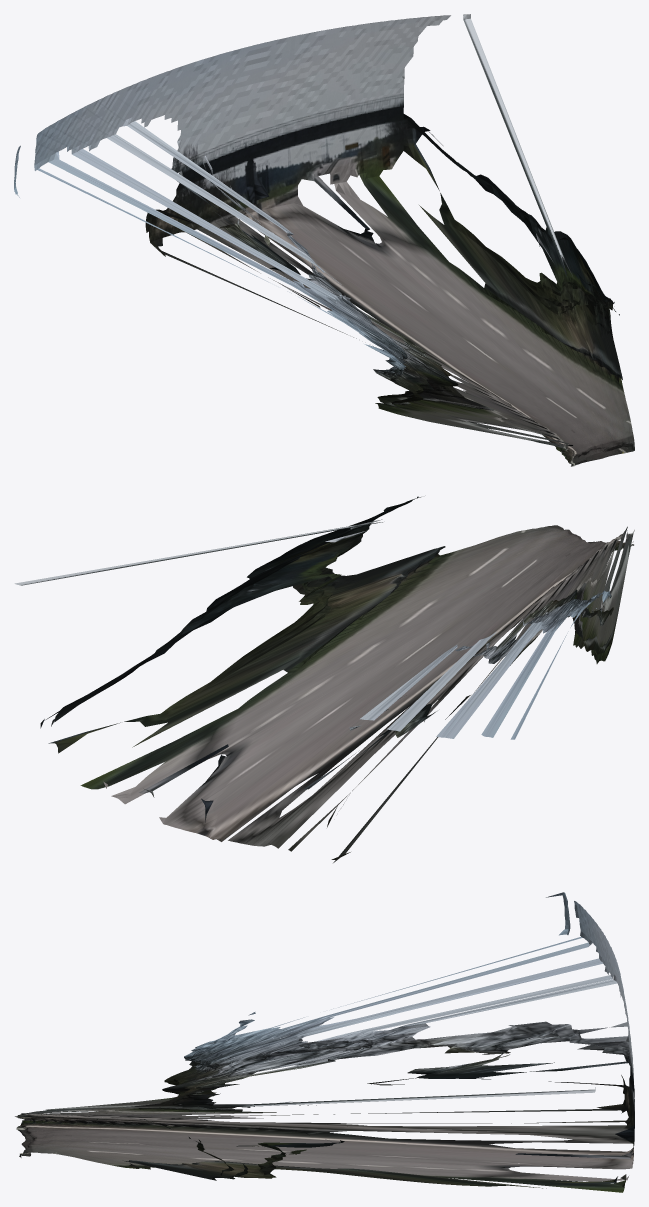
3 views of the same model, one above another, from view 1: azimuth 30°, elevation 25°; view 2: azimuth 150°, elevation 25°; view 3: azimuth 270°, elevation 25° (orthographic). The views are drawn at different scales.
Parts seen in each view (by area): view 1: defaultobject; view 2: defaultobject; view 3: defaultobject.
Boxes of the visible parts, x1,y1,x2,y2 form: defaultobject: (14, 14, 634, 466); defaultobject: (14, 496, 634, 862); defaultobject: (15, 892, 634, 1192).
Size of the model in its own units: 34.66 by 12.46 by 44.79.
1 material, 1 textured.
